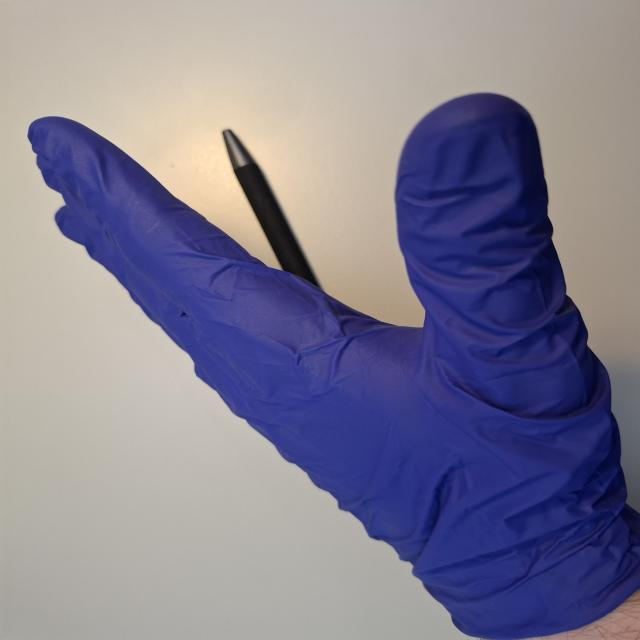glove_on: (23, 90, 640, 633)
